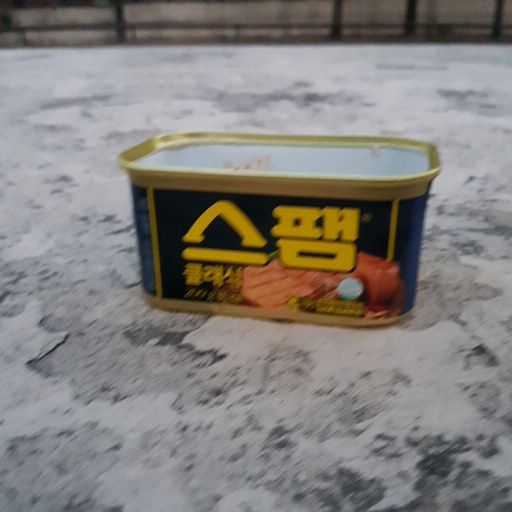Metal_2: (116, 128, 444, 332)
